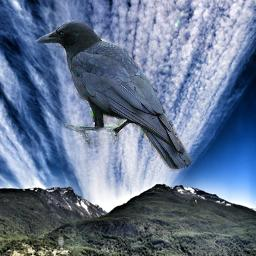Crow: (35, 20, 194, 175)
